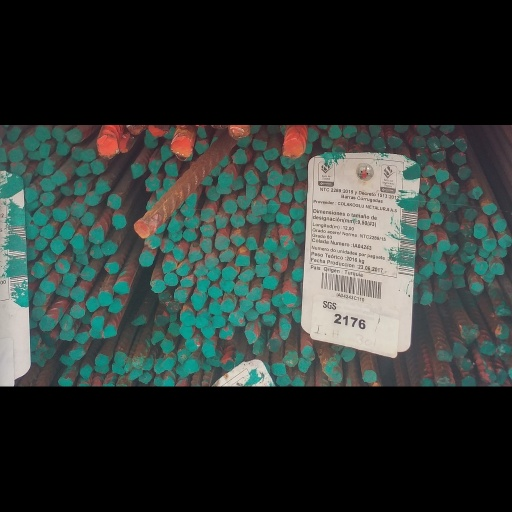dipstick: (173, 24, 191, 63), (98, 24, 118, 58), (284, 28, 302, 61), (452, 425, 468, 457), (118, 24, 135, 54), (283, 443, 298, 476), (180, 154, 197, 183), (180, 364, 196, 394), (253, 59, 268, 90), (134, 190, 149, 221), (31, 325, 47, 354), (232, 47, 247, 77), (55, 261, 70, 291), (30, 269, 45, 299), (39, 303, 55, 331), (461, 394, 478, 420), (40, 133, 57, 159), (245, 114, 260, 143), (244, 88, 260, 115), (218, 92, 234, 119), (193, 270, 209, 297), (90, 375, 106, 402), (35, 3, 51, 30), (39, 376, 55, 403), (150, 402, 163, 435), (494, 390, 509, 418), (327, 476, 342, 504), (180, 390, 195, 418), (75, 251, 90, 279), (144, 103, 159, 131), (8, 44, 23, 72), (111, 175, 126, 203), (279, 216, 295, 242), (39, 104, 55, 130), (270, 465, 287, 489), (252, 148, 266, 177), (89, 203, 103, 232), (479, 237, 494, 264), (341, 437, 356, 464), (290, 187, 305, 214), (239, 282, 254, 309), (50, 225, 65, 252), (165, 342, 181, 367), (473, 193, 487, 221), (244, 398, 258, 426), (220, 243, 234, 271), (98, 325, 112, 353), (89, 233, 103, 261), (102, 227, 116, 255), (40, 195, 54, 223), (149, 0, 166, 23), (33, 171, 50, 194), (372, 25, 387, 51), (282, 325, 295, 355), (191, 331, 204, 361), (183, 460, 198, 486), (108, 138, 121, 168), (26, 195, 39, 225), (247, 170, 263, 194), (246, 320, 262, 344), (144, 217, 160, 241), (163, 290, 179, 314), (37, 72, 53, 96), (489, 269, 503, 296), (475, 266, 489, 293), (439, 19, 453, 46), (231, 175, 245, 202), (267, 417, 281, 444), (233, 310, 247, 337), (139, 249, 153, 276), (66, 8, 80, 35), (90, 70, 104, 97), (165, 70, 178, 99), (457, 81, 472, 106), (255, 245, 270, 270), (255, 344, 270, 369), (239, 340, 254, 365), (114, 308, 129, 333), (231, 3, 246, 28), (58, 199, 73, 224), (279, 388, 290, 422), (275, 490, 292, 512), (8, 74, 25, 96), (172, 238, 184, 269), (437, 441, 453, 464), (290, 162, 306, 185), (150, 304, 166, 327), (498, 214, 511, 242), (458, 243, 472, 269), (420, 270, 433, 298), (262, 119, 276, 145), (274, 235, 288, 261), (301, 432, 315, 458), (190, 241, 203, 269), (174, 320, 187, 348), (160, 420, 174, 446), (52, 4, 65, 32), (41, 405, 54, 433), (492, 238, 507, 262), (427, 24, 442, 48), (436, 83, 448, 113), (455, 458, 473, 478), (387, 22, 402, 46), (235, 253, 250, 277), (169, 385, 181, 415), (110, 342, 122, 372), (81, 46, 96, 70), (75, 75, 90, 99), (184, 181, 200, 203), (182, 204, 198, 226), (23, 25, 39, 47), (454, 26, 467, 53), (453, 52, 466, 79), (420, 326, 433, 353), (498, 428, 511, 455), (482, 424, 495, 451), (482, 479, 495, 506), (195, 300, 208, 327), (149, 67, 162, 94), (71, 152, 84, 179), (434, 323, 448, 348), (263, 222, 277, 247), (201, 429, 215, 454), (95, 449, 109, 474), (253, 421, 265, 450), (114, 444, 126, 473), (73, 108, 85, 137), (445, 113, 460, 136), (356, 15, 371, 38), (220, 342, 235, 365), (161, 267, 176, 290), (127, 0, 146, 18), (80, 468, 91, 499), (459, 190, 472, 216), (439, 299, 452, 325), (363, 479, 376, 505), (281, 59, 294, 85), (282, 93, 295, 119), (267, 145, 280, 171), (264, 296, 277, 322), (297, 457, 310, 483), (209, 447, 222, 473), (162, 103, 175, 129), (130, 76, 143, 102), (62, 291, 75, 317), (468, 121, 482, 145), (482, 153, 496, 177), (422, 78, 436, 102), (217, 113, 231, 137), (224, 147, 238, 171), (200, 222, 212, 250), (167, 185, 181, 209), (177, 271, 189, 299), (196, 368, 208, 396), (52, 91, 66, 115), (95, 109, 109, 133), (42, 249, 56, 273), (293, 62, 308, 84), (261, 370, 276, 392), (219, 398, 234, 420), (211, 374, 226, 396), (222, 279, 237, 301), (74, 318, 85, 348), (493, 186, 506, 211), (306, 7, 319, 32), (269, 92, 282, 117), (209, 345, 222, 370), (201, 165, 214, 190), (195, 29, 208, 54), (34, 221, 47, 246), (419, 236, 431, 263), (279, 126, 291, 153), (161, 224, 173, 251), (81, 277, 93, 304), (161, 40, 173, 67), (60, 374, 72, 401), (253, 27, 267, 50), (245, 361, 259, 384), (208, 316, 222, 339), (219, 302, 233, 325), (132, 372, 146, 395), (185, 418, 199, 441), (177, 440, 191, 463), (102, 393, 116, 416), (167, 209, 183, 229), (71, 41, 82, 70), (416, 0, 431, 21), (428, 117, 441, 141), (426, 144, 439, 168), (453, 295, 465, 321), (329, 0, 342, 24), (293, 127, 306, 151), (207, 121, 219, 147), (237, 139, 250, 163), (245, 218, 257, 244), (215, 175, 228, 199), (201, 196, 214, 220), (56, 33, 68, 59), (8, 3, 20, 29), (53, 164, 66, 188), (57, 313, 70, 337), (483, 223, 497, 245), (496, 353, 510, 375), (368, 0, 382, 22), (264, 46, 278, 68), (202, 394, 216, 416), (165, 1, 176, 29), (437, 494, 454, 512), (88, 399, 104, 418), (471, 308, 483, 333), (446, 143, 458, 168), (342, 2, 357, 22), (276, 173, 291, 193), (271, 331, 283, 356), (180, 301, 195, 321), (157, 325, 172, 345), (87, 338, 99, 363), (73, 216, 85, 241), (86, 132, 98, 157), (59, 449, 74, 469), (295, 85, 308, 108), (206, 258, 219, 281), (131, 454, 144, 477), (81, 174, 94, 197), (24, 123, 37, 146), (457, 134, 468, 161), (292, 279, 303, 306), (73, 353, 84, 380), (431, 50, 445, 71), (451, 271, 465, 292), (262, 173, 276, 194), (255, 274, 269, 295), (214, 218, 228, 239), (138, 486, 152, 507), (105, 269, 119, 290), (27, 50, 41, 71), (328, 447, 338, 476), (464, 230, 476, 254), (464, 163, 476, 187), (208, 282, 220, 306), (417, 183, 430, 205), (435, 268, 446, 294), (231, 214, 244, 236), (185, 135, 196, 161), (153, 464, 166, 486), (175, 466, 186, 492), (75, 407, 88, 429), (38, 37, 49, 63), (59, 403, 74, 422), (496, 479, 506, 507), (461, 492, 475, 512), (164, 365, 178, 385), (292, 359, 301, 390), (483, 285, 495, 308), (424, 210, 436, 233), (293, 212, 305, 235), (413, 21, 426, 42), (144, 24, 157, 45), (444, 190, 459, 208), (30, 413, 39, 443), (238, 25, 252, 44), (291, 493, 305, 512), (415, 55, 426, 79), (430, 171, 442, 193), (437, 224, 448, 248), (274, 265, 286, 287), (130, 478, 142, 500), (112, 466, 124, 488), (197, 3, 208, 27), (60, 117, 72, 139), (32, 358, 44, 380), (27, 238, 36, 267), (420, 106, 430, 132), (279, 352, 292, 372), (156, 372, 169, 392), (74, 437, 84, 463), (332, 38, 348, 54), (93, 471, 109, 487), (23, 149, 39, 165), (57, 495, 72, 512), (232, 104, 243, 127), (81, 368, 92, 391), (146, 145, 157, 168), (229, 369, 243, 387), (43, 439, 55, 460), (288, 237, 298, 262), (222, 458, 235, 477), (321, 22, 332, 44), (439, 0, 454, 16), (200, 461, 212, 481), (164, 453, 173, 479), (24, 167, 32, 196), (431, 245, 441, 268), (161, 493, 173, 512), (394, 0, 409, 15), (266, 1, 280, 17), (420, 495, 433, 512), (448, 233, 458, 255), (210, 81, 221, 101), (155, 194, 166, 214), (413, 288, 420, 319), (218, 63, 230, 81), (156, 125, 167, 144), (30, 446, 41, 465), (201, 101, 213, 118), (439, 129, 448, 151), (293, 336, 302, 358), (142, 459, 153, 477), (418, 138, 426, 162), (152, 493, 162, 512), (412, 324, 419, 351), (22, 94, 29, 121), (0, 44, 7, 71), (250, 1, 262, 16), (305, 36, 313, 57), (125, 465, 132, 484)
